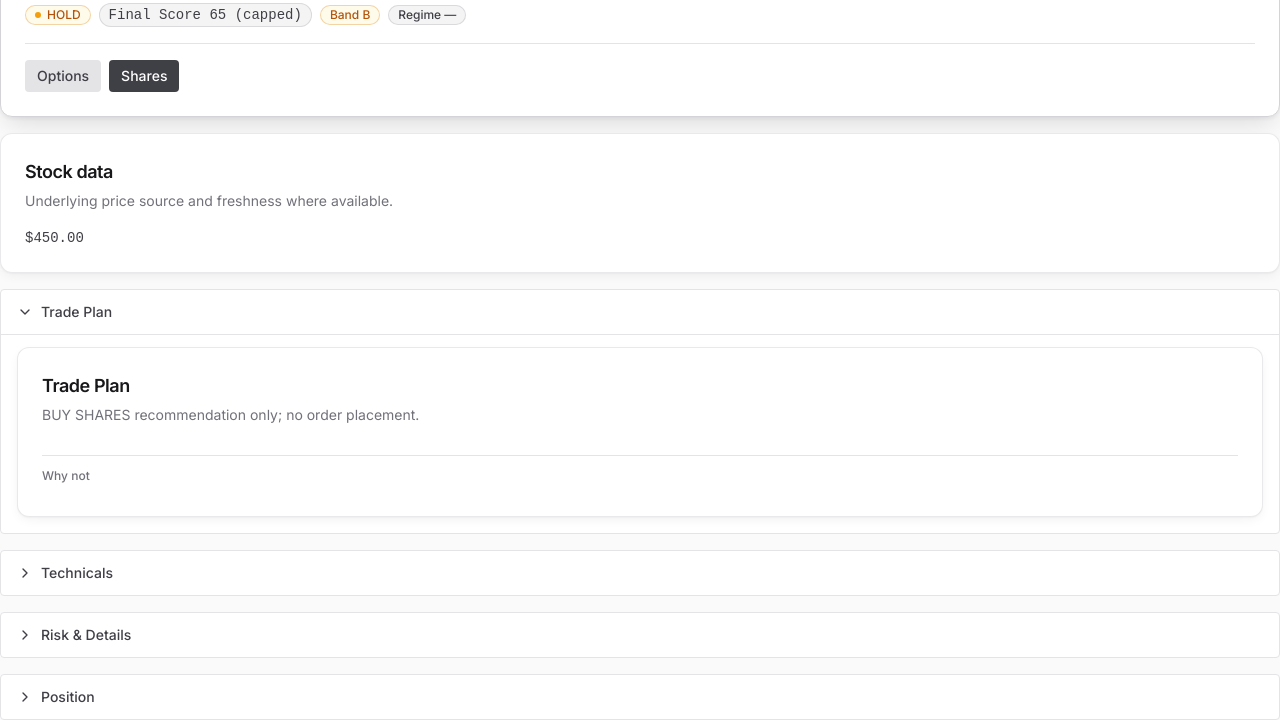
it: SymbolDiagnosticsPage Gate Summary › R25.2: Shares exit banner shows Recommend: Close and Reason (Target hit / Stop hit) when shares_exit_hit_type set
(page scrolled)
Click the heading "Position": {"x": 56, "y": 696} 17,688 -> 95,705
(page scrolled)
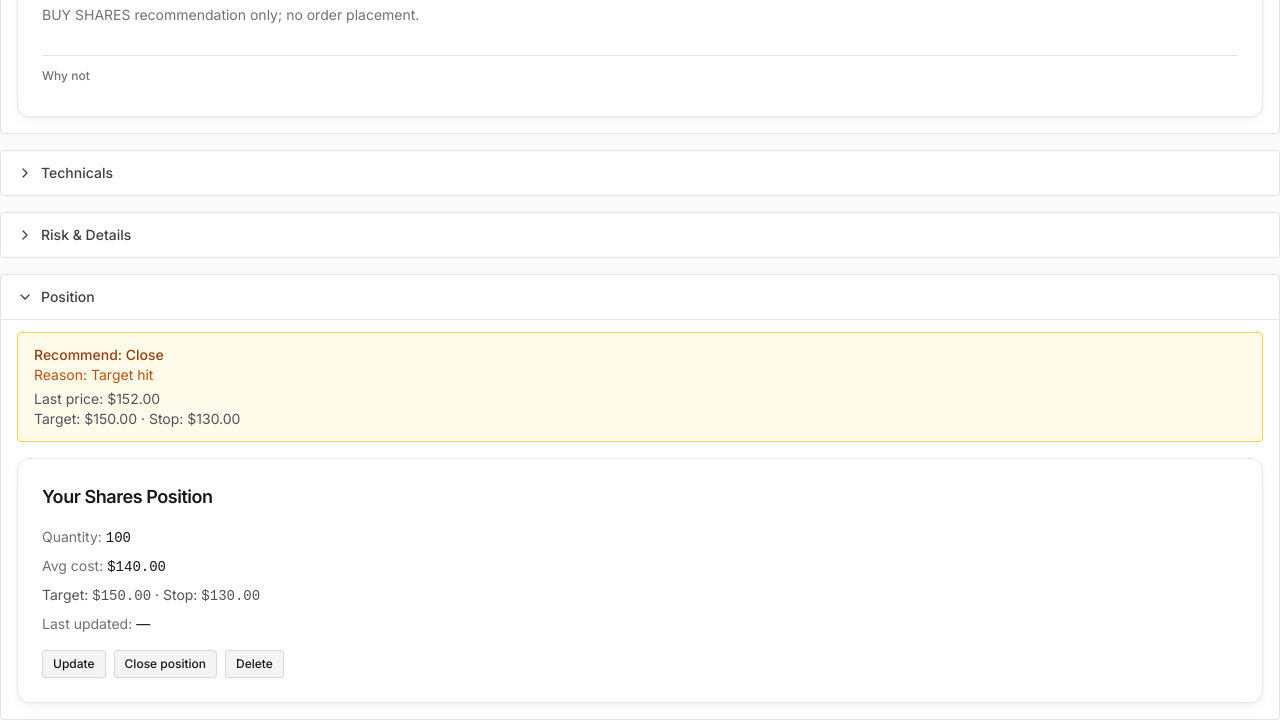
expect the element with test id "shares-exit-recommend-banner" is shown: met, box 17,332 -> 1263,442
expect the text "Recommend: Close" is shown: met, box 34,346 -> 164,363
expect the text "Reason: Target hit" is shown: met, box 34,366 -> 153,383
